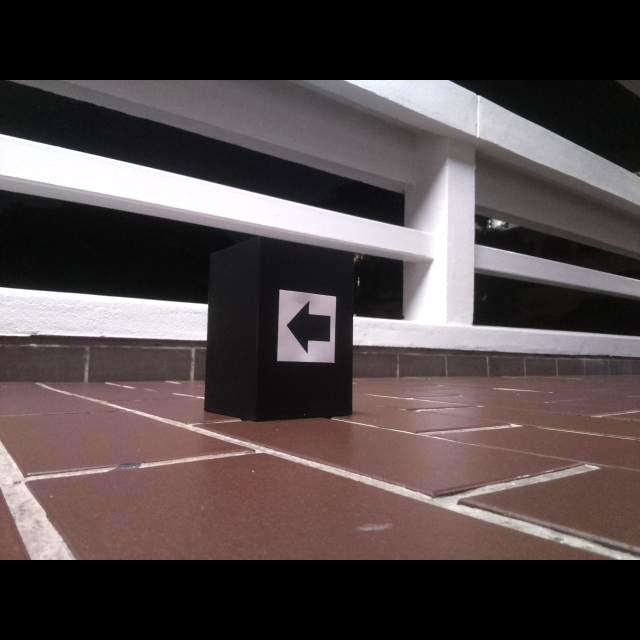LEFT: (285, 300, 331, 354)
